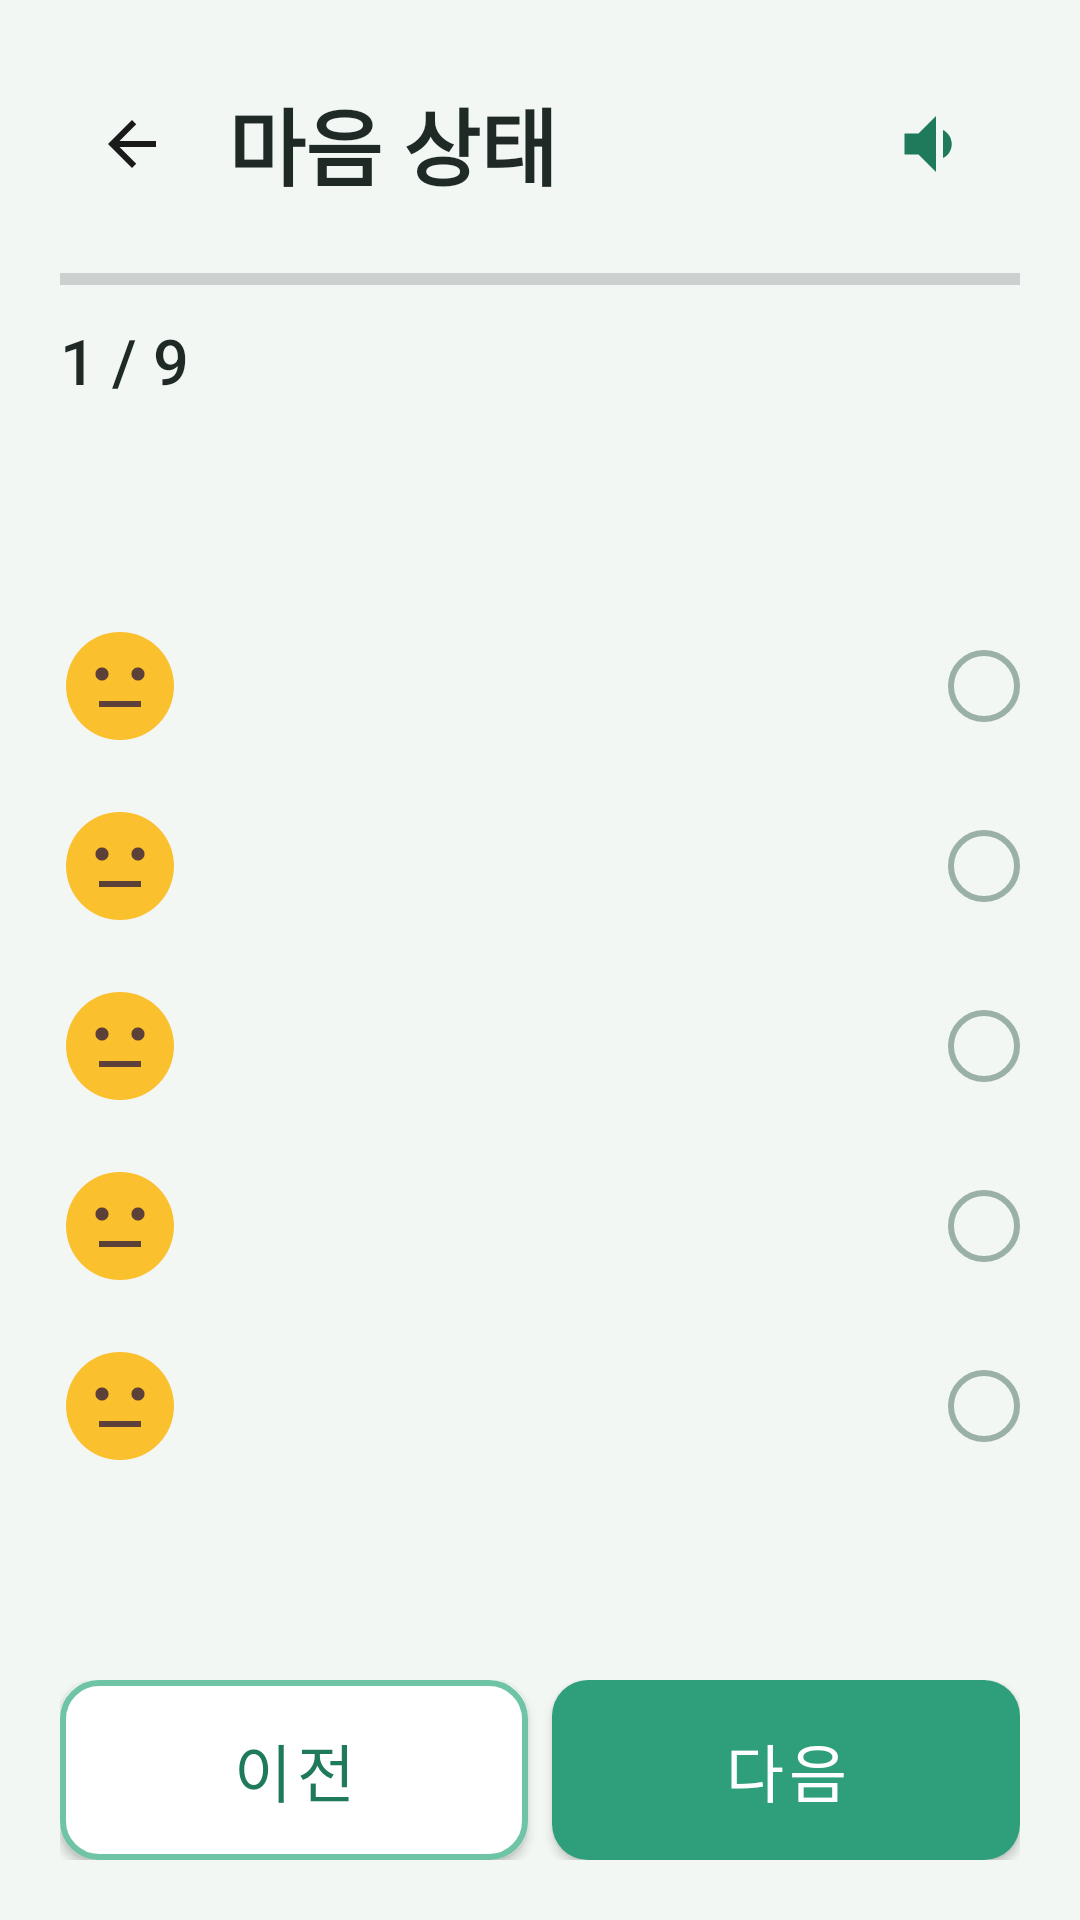

Where to tap for icons on this 1080px×1920px app screen, as (x=x, y=y):
back: (x=132, y=144)
emoji: (x=120, y=686), (x=120, y=866), (x=120, y=1046), (x=120, y=1226), (x=120, y=1406)
speaker: (x=928, y=144)
